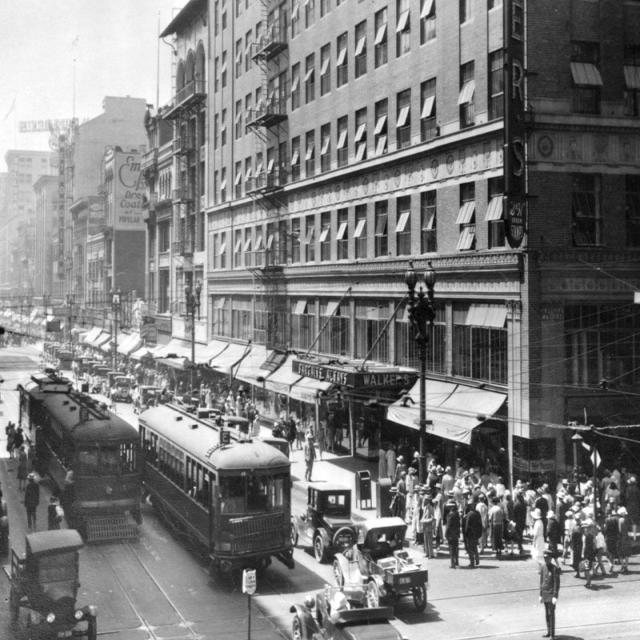body: (396, 449, 638, 516), (0, 319, 173, 412), (198, 380, 260, 434), (538, 547, 560, 639), (464, 498, 483, 570), (444, 497, 462, 570), (543, 510, 562, 575), (602, 509, 620, 573), (486, 496, 504, 560), (578, 521, 594, 588), (419, 494, 435, 561), (529, 508, 547, 567), (23, 472, 41, 531), (474, 493, 490, 556), (512, 490, 527, 556), (430, 481, 444, 551), (326, 586, 353, 622), (616, 505, 630, 571), (570, 514, 584, 579), (534, 486, 549, 543), (561, 510, 576, 566), (553, 491, 568, 546), (388, 486, 402, 544), (5, 420, 24, 461), (46, 493, 66, 531), (302, 433, 317, 483), (410, 484, 422, 546), (396, 470, 410, 521), (320, 414, 338, 452), (592, 528, 606, 575), (15, 444, 28, 491), (384, 441, 396, 484), (272, 414, 286, 450), (115, 450, 132, 477), (62, 464, 78, 490), (316, 422, 326, 462), (286, 414, 296, 451), (378, 444, 388, 479), (294, 419, 304, 451), (305, 423, 314, 437)
